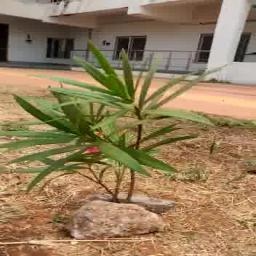OLEANDER: (20, 40, 217, 211)
